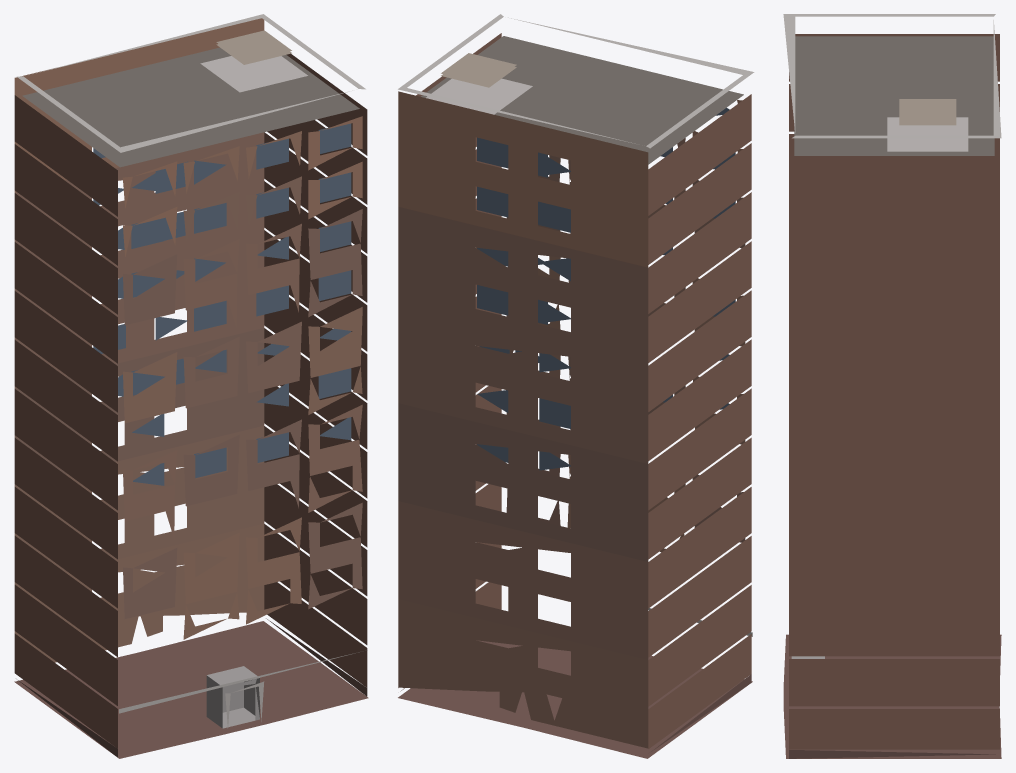
File: city_prewar.lod.glb
The picture shows the model from 3 angles, left to right: view 1: azimuth 30°, elevation 25°; view 2: azimuth 150°, elevation 25°; view 3: azimuth 270°, elevation 25°; orthographic projection. The views are drawn at different scales.
Parts seen in each view (by area): view 1: city_prewar; view 2: city_prewar; view 3: city_prewar.
Part boxes in pixels (x1,y1,x2,y2): city_prewar: (14,14,368,758); city_prewar: (398,14,754,758); city_prewar: (783,14,1001,758).
Bounding box in the file's own units: 15.59 × 36.53 × 11.54.
